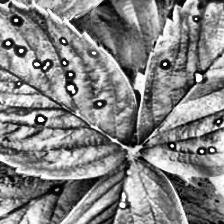Leaf Spot: (0, 0, 139, 180), (136, 0, 224, 185), (25, 156, 196, 224), (0, 155, 101, 224), (161, 170, 224, 224), (0, 0, 129, 21)
